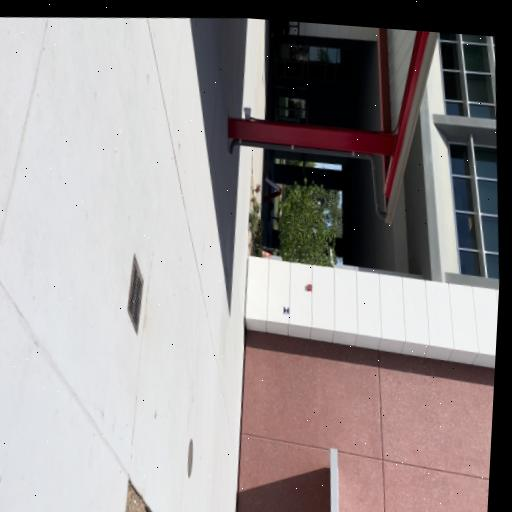target9: (283, 305, 290, 317)
